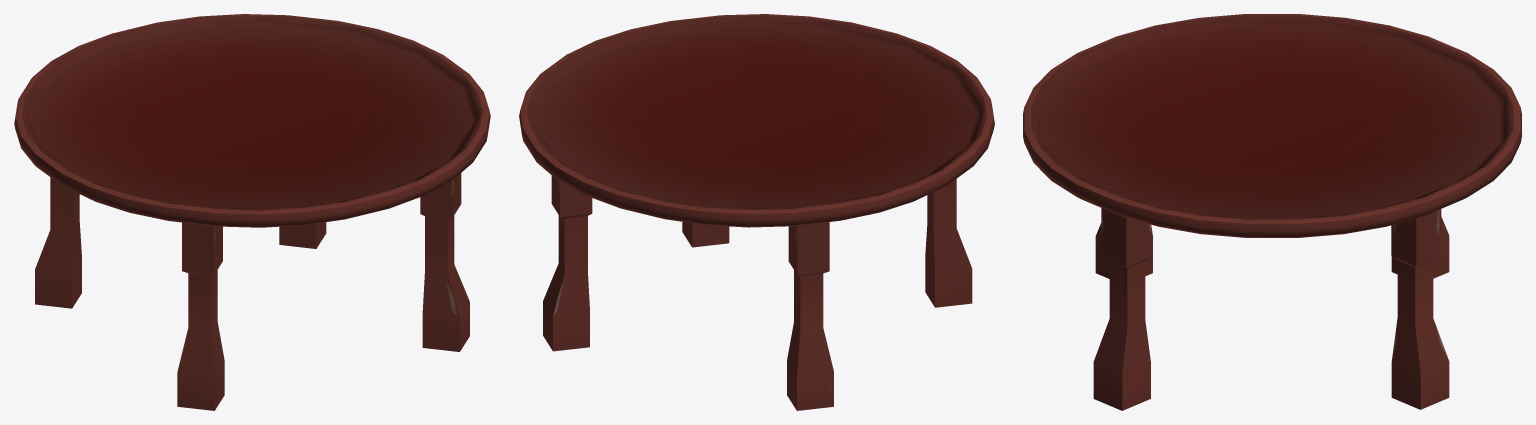
File: Table.FBX
3 renders of one model, left to right at view 1: azimuth 30°, elevation 25°; view 2: azimuth 150°, elevation 25°; view 3: azimuth 270°, elevation 25°, orthographic. The views are drawn at different scales.
Parts seen in each view (by area): view 1: Cylinder001; view 2: Cylinder001; view 3: Cylinder001.
Part boxes in pixels (left/top/right/bottom): Cylinder001: left=14, top=14, right=490, bottom=410; Cylinder001: left=519, top=14, right=994, bottom=410; Cylinder001: left=1023, top=14, right=1521, bottom=410.
Size of the model in its own units: 123 by 59.29 by 123.
1 material, 1 textured.
